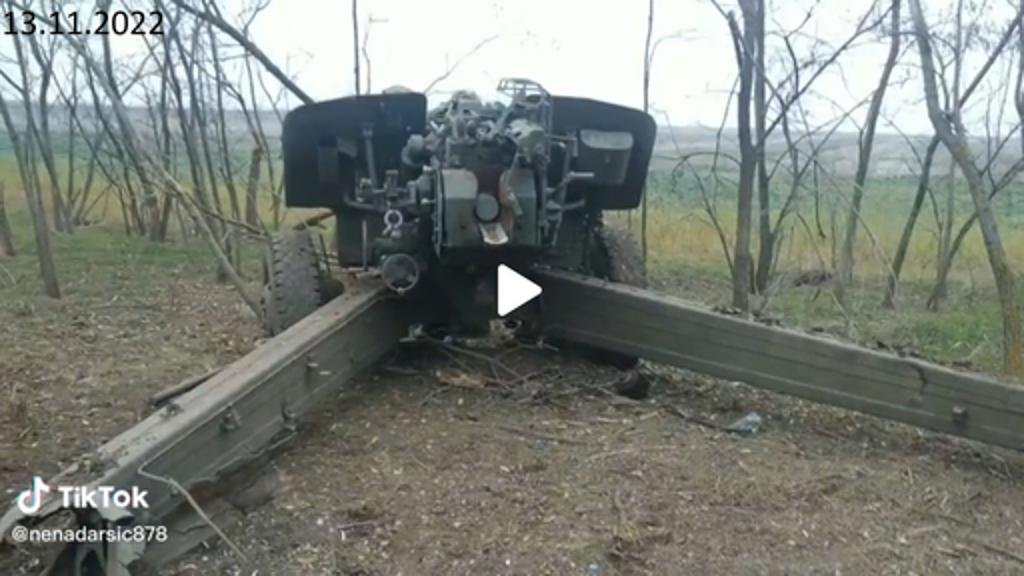ART: (246, 72, 708, 382)
